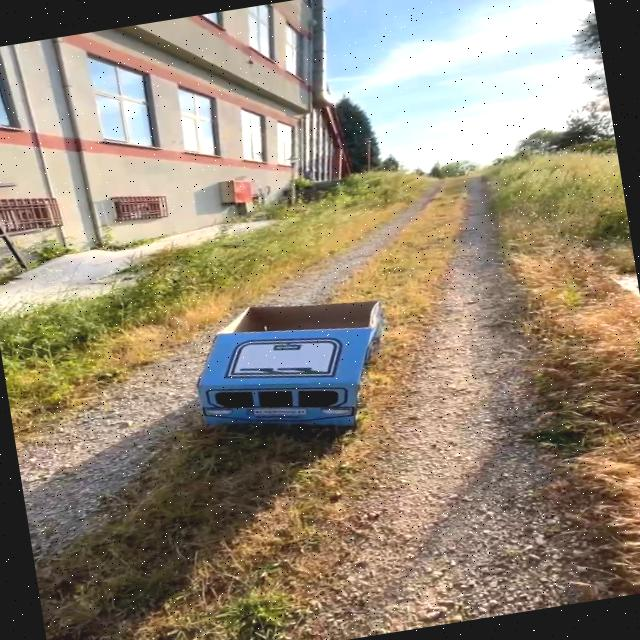blue_car: (130, 257, 452, 488)
